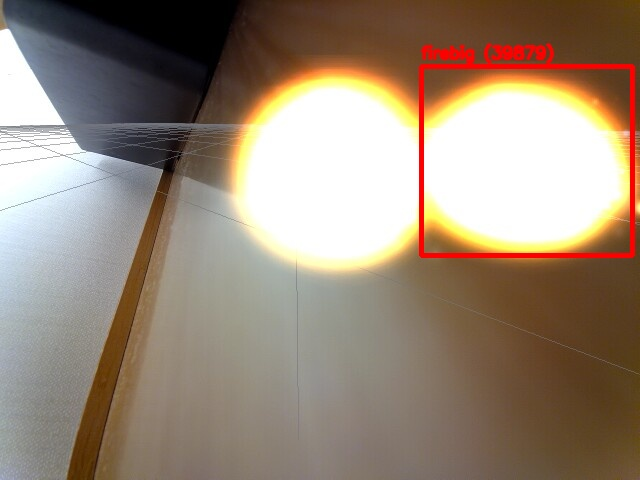firebig: (421, 66, 632, 255)
